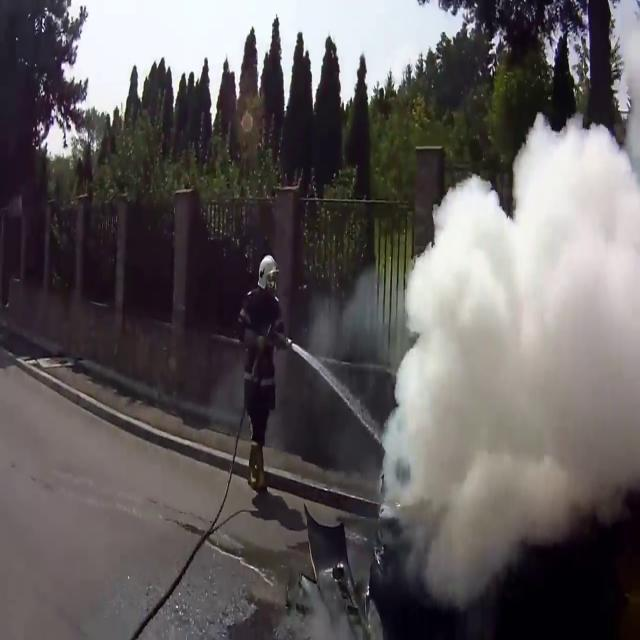Smoke: (357, 110, 640, 609), (279, 246, 403, 421)
